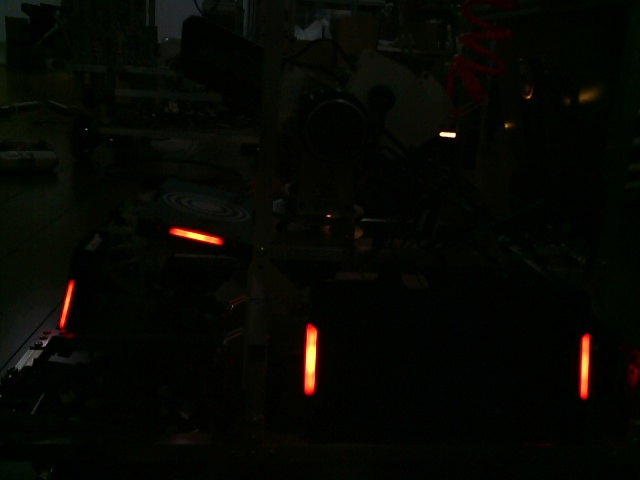lamp: (299, 322, 322, 398), (579, 333, 593, 401), (59, 276, 76, 332)
